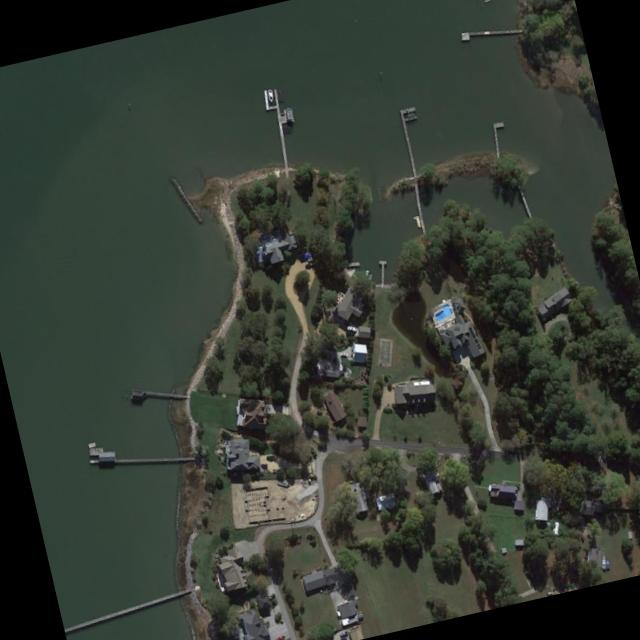ship: (264, 87, 275, 103)
small-vehicle: (273, 633, 284, 640)
